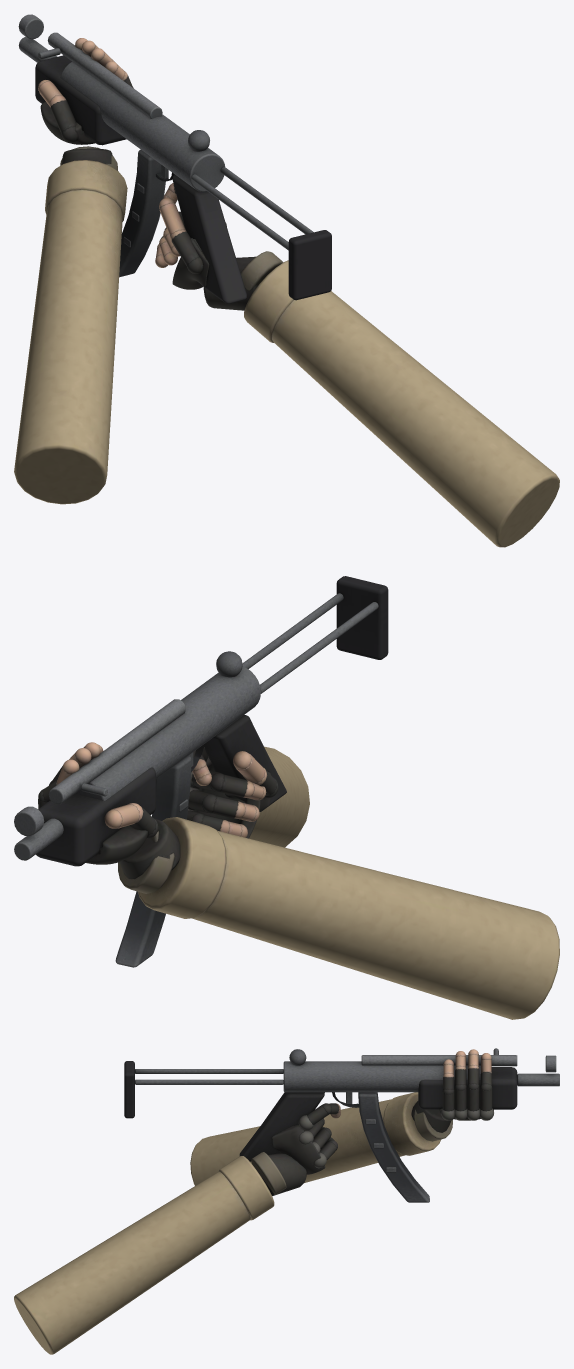
3 renders of one model, top to bottom at view 1: azimuth 30°, elevation 25°; view 2: azimuth 150°, elevation 25°; view 3: azimuth 270°, elevation 25°, orthographic. The views are drawn at different scales.
Visible parts, largest first — view 1: hænder, mp; view 2: hænder, mp; view 3: hænder, mp.
Boxes of the visible parts, x1=… form: hænder: x1=14, y1=38, x2=559, y2=547; mp: x1=18, y1=14, x2=331, y2=303; hænder: x1=38, y1=742, x2=559, y2=1019; mp: x1=14, y1=576, x2=388, y2=967; hænder: x1=14, y1=1049, x2=493, y2=1354; mp: x1=124, y1=1048, x2=559, y2=1202.
Size of the model in its own units: 0.5162 by 0.3892 by 0.7708.
2 materials, 2 textured.
